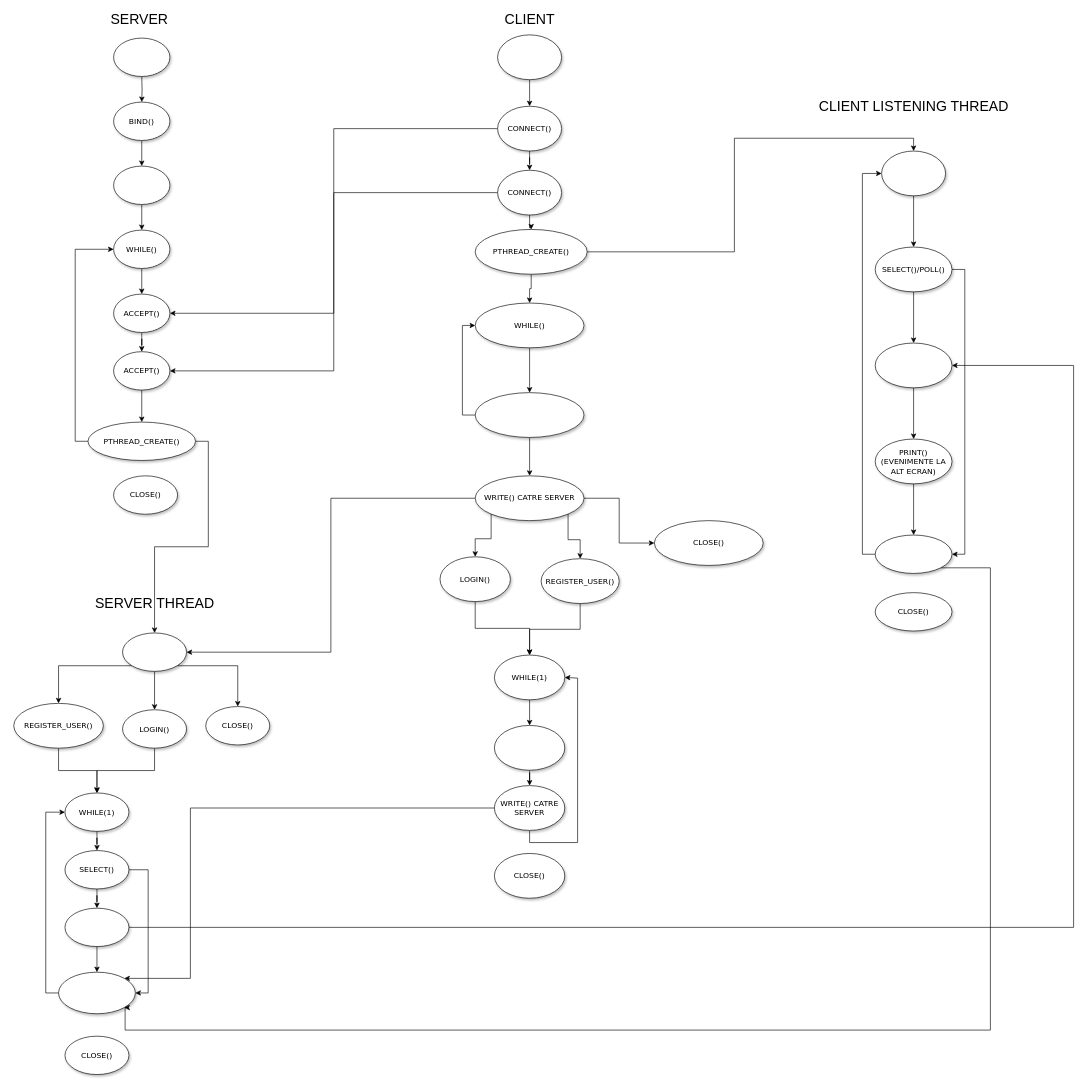
Some shapes in this 1090 by 1090 pixel diagram are drawn without their labels. The centre of each missing label's shape, as x and y in pixels:
LISTEN(): point 142,186
READ() DE LA CLIENT: point 154,653
READ() DE LA CLIENT(LOCATIE, ACCIDENTE): point 97,993
READ() DE LA SERVER: point 914,366
READ() DE LA STDIN: point 530,748
READ() DE LA STDIN (LOGIN/REGISTER/QUIT): point 530,415
SOCKET(): point 142,58
SOCKET(); SOCKET(): point 529,58
while(exit_flag != 1): point 913,174
WRITE() CATRE CLIENT: point 97,928
WRITE()(LOCATIA): point 914,555
